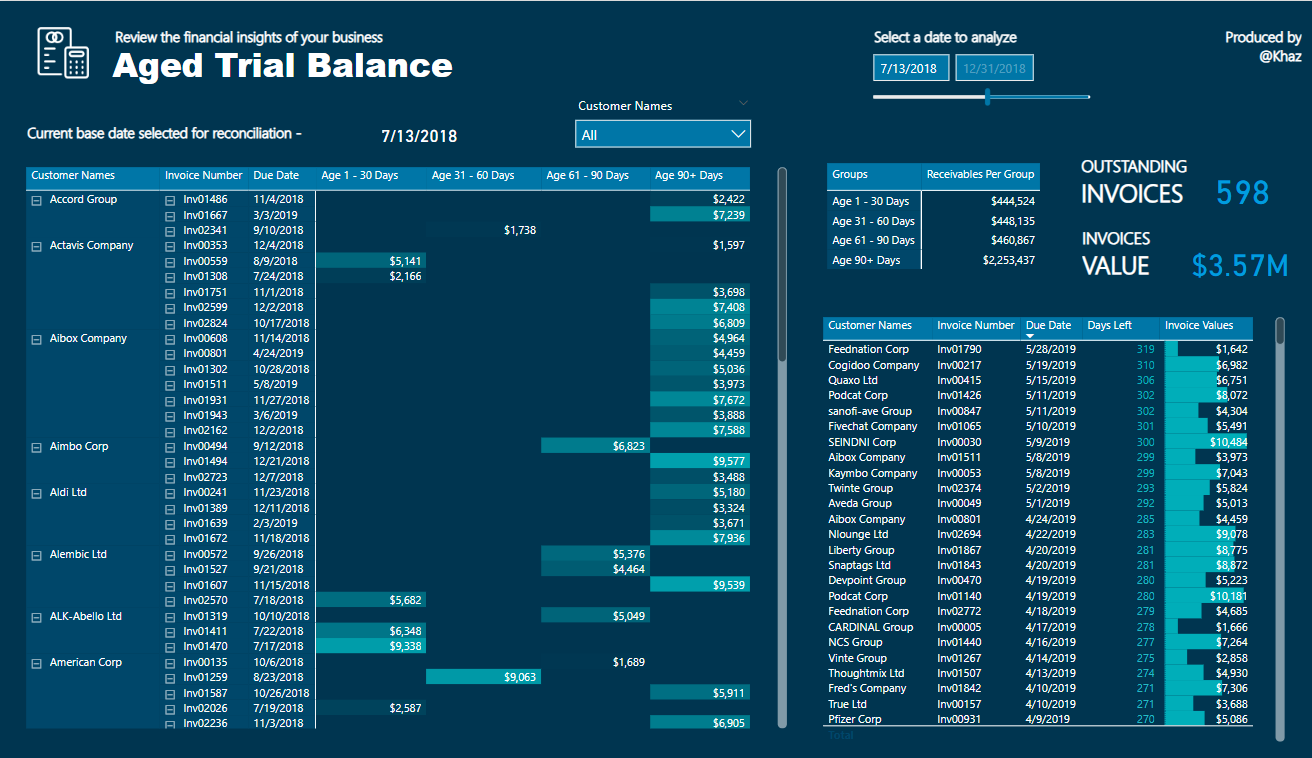

This screenshot's page, from the dashboard's own definition file:
{"tool":"powerbi","page":{"name":"Aged Trial Balance","canvas":[1280,720],"ordinal":5},"visuals":[{"type":"image","box":[18.3,1.1,88.2,60.2],"z":0},{"type":"textbox","box":[107.6,0,291.5,34.4],"z":1000},{"type":"textbox","box":[105.4,14.7,410.7,60.1],"z":2000},{"type":"textbox","box":[1139,0,133.3,55.4],"z":3000},{"type":"pivotTable","fields":{"Rows":["Customers.Customer Names","Invoices.Invoice Number","Invoices.Due Date"],"Values":["Account Receivable.Receivables Per Group"],"Columns":["Aged Debtor Groups.Groups"]},"box":[21.5,136.8,749.7,556.3],"z":5000},{"type":"slicer","fields":{"Values":["Dates.Date.Variation.Date Hierarchy.Year"]},"box":[837.9,22.6,237.5,65.6],"z":6000},{"type":"card","fields":{"Values":["Account Receivable.Selected Date"]},"box":[300.8,97.2,216,29.4],"z":7000},{"type":"textbox","box":[845.8,0,180.9,30.5],"z":8000},{"type":"textbox","box":[22.6,93.9,295.1,30.5],"z":9000},{"type":"slicer","fields":{"Values":["Customers.Customer Names"]},"box":[550.7,67.8,191.1,69],"z":10000},{"type":"card","fields":{"Values":["Account Receivable.Outstanding Invoices"]},"box":[1166.9,128.9,83.7,70.1],"z":11000},{"type":"tableEx","fields":{"Values":["Customers.Customer Names","Invoices.Invoice Number","Invoices.Due Date","Account Receivable.Days Left As Receivable","Account Receivable.Invoice Values"]},"box":[796,282.7,460.2,422.9],"z":12000},{"type":"pivotTable","fields":{"Values":["Account Receivable.Receivables Per Group"],"Rows":["Aged Debtor Groups.Groups"]},"box":[800.6,133.4,237.5,118.7],"z":13000},{"type":"card","fields":{"Values":["Account Receivable.Receivables Per Group"]},"box":[1150,200.1,115.3,70.1],"z":14000},{"type":"textbox","box":[1048.2,194.5,100.6,70.1],"z":15000},{"type":"textbox","box":[1047.1,124.4,121,70.1],"z":16000}]}

Visuals, with their boxes in screenshot pixels (x1, y1, x2, y2), scaled from the page's 1280x720 canvas onto the 1312x758 screenshot:
image: [x1=19, y1=1, x2=109, y2=65]
textbox: [x1=110, y1=0, x2=409, y2=36]
textbox: [x1=108, y1=15, x2=529, y2=79]
textbox: [x1=1167, y1=0, x2=1304, y2=58]
pivotTable - Customers.Customer Names x Invoices.Invoice Number: [x1=22, y1=144, x2=790, y2=730]
slicer - Dates.Date.Variation.Date Hierarchy.Year: [x1=859, y1=24, x2=1102, y2=93]
card - Account Receivable.Selected Date: [x1=308, y1=102, x2=530, y2=133]
textbox: [x1=867, y1=0, x2=1052, y2=32]
textbox: [x1=23, y1=99, x2=326, y2=131]
slicer - Customers.Customer Names: [x1=564, y1=71, x2=760, y2=144]
card - Account Receivable.Outstanding Invoices: [x1=1196, y1=136, x2=1282, y2=210]
tableEx - Customers.Customer Names x Invoices.Invoice Number: [x1=816, y1=298, x2=1288, y2=743]
pivotTable - Account Receivable.Receivables Per Group x Aged Debtor Groups.Groups: [x1=821, y1=140, x2=1064, y2=265]
card - Account Receivable.Receivables Per Group: [x1=1179, y1=211, x2=1297, y2=284]
textbox: [x1=1074, y1=205, x2=1178, y2=279]
textbox: [x1=1073, y1=131, x2=1197, y2=205]
